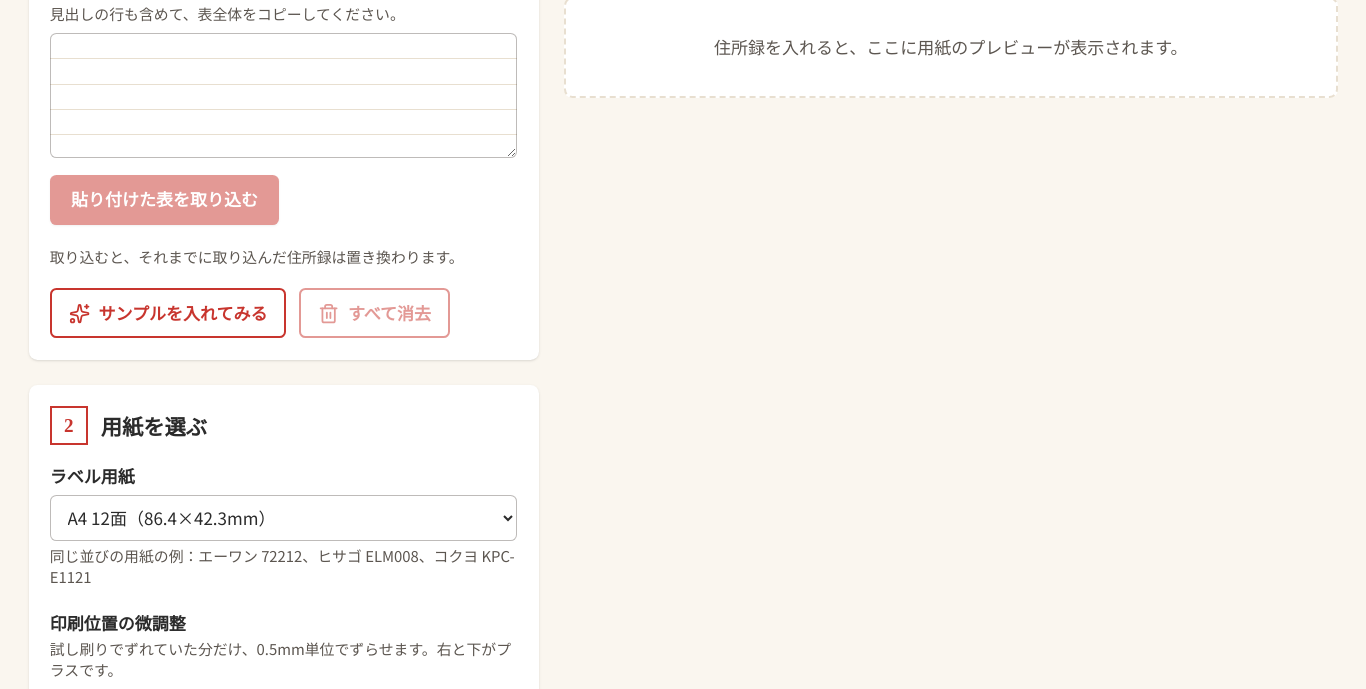
Test case: App › すべて消去すると、住所録が空に戻る
(page scrolled)
Click the button "サンプルを入れてみる" at (168, 313), box [50, 288, 286, 338]
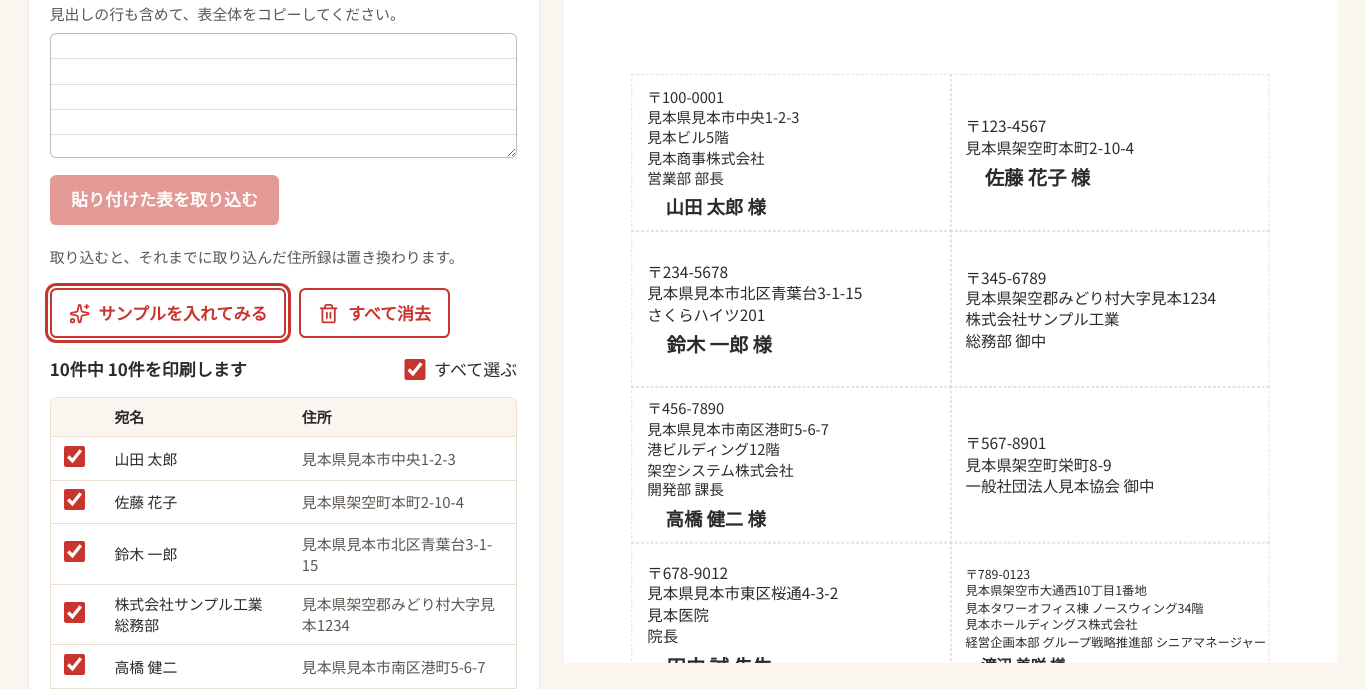
Click the button "すべて消去" at (375, 313), box [299, 288, 450, 338]
(page scrolled)
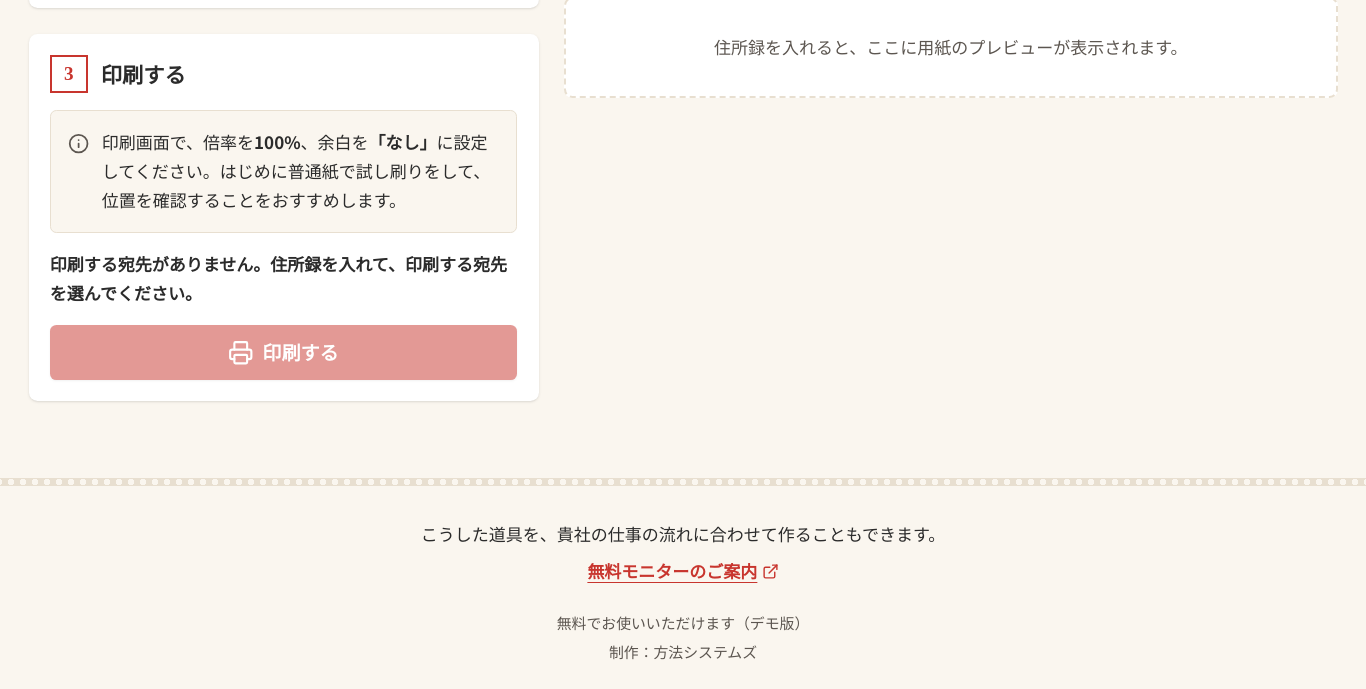
Result: the text "山田 太郎 様" is gone
Result: the button "印刷する" is disabled at [50, 325, 517, 380]
